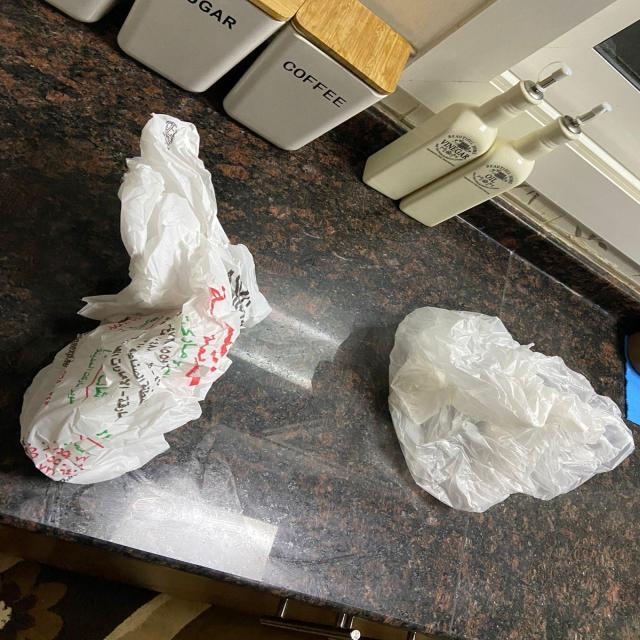plastic bag: (17, 110, 274, 482), (387, 306, 638, 514)
